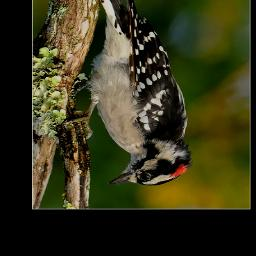Woodpecker: (67, 0, 196, 186)
